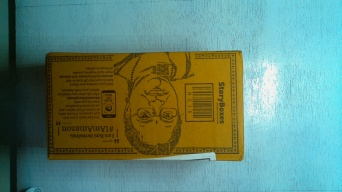a: (40, 47, 266, 165)
